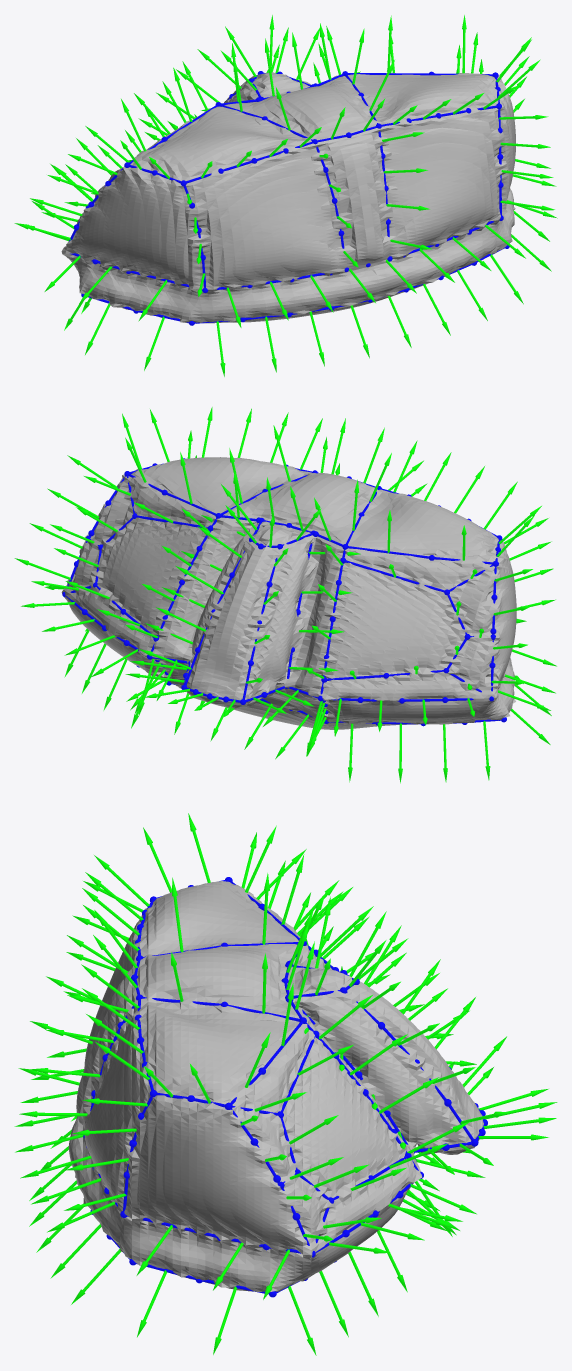
The model's file is ils_speaker.gltf.
The picture shows the model from 3 angles, top to bottom: view 1: azimuth 30°, elevation 25°; view 2: azimuth 150°, elevation 25°; view 3: azimuth 270°, elevation 25°; orthographic projection. The views are drawn at different scales.
Bounding box in the file's own units: 0.9676 × 0.4548 × 0.709.
